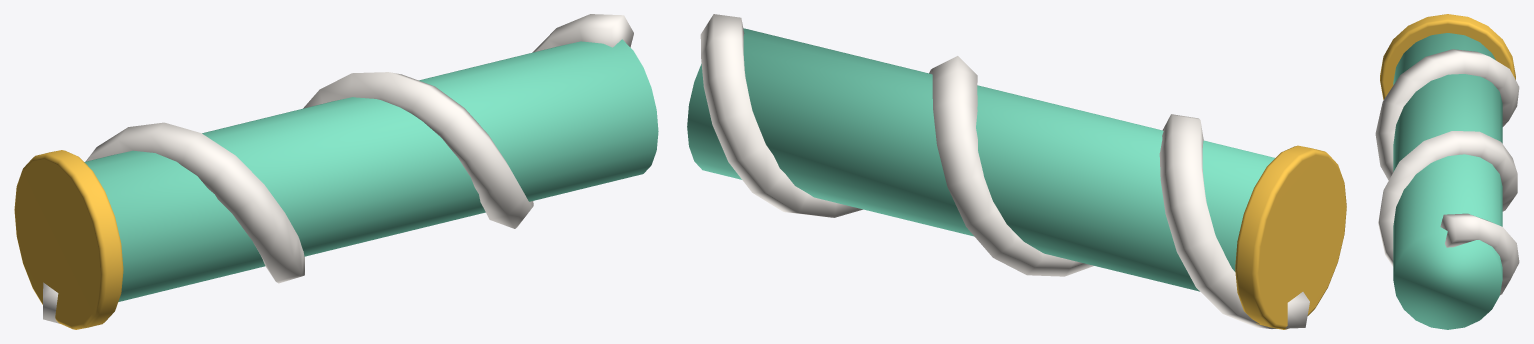
File: candy_pipe_mint.glb
The picture shows the model from 3 angles, left to right: view 1: azimuth 30°, elevation 25°; view 2: azimuth 150°, elevation 25°; view 3: azimuth 270°, elevation 25°; orthographic projection. The views are drawn at different scales.
Visible parts, largest first — view 1: Pipe.001; view 2: Pipe.001; view 3: Pipe.001.
Part boxes in pixels (x1,y1,x2,y2): Pipe.001: (14,14,658,329); Pipe.001: (687,14,1346,329); Pipe.001: (1375,14,1519,329).
Bounding box in the file's own units: 4.23 × 1.18 × 1.19.
